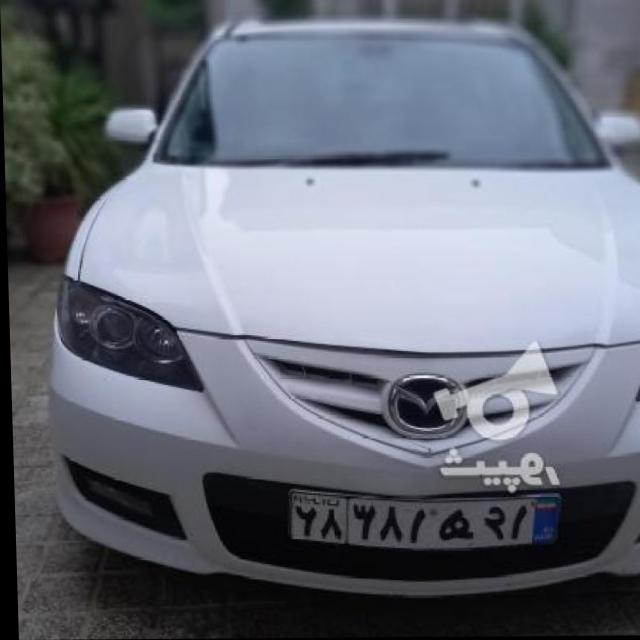licence: (287, 484, 560, 549)
